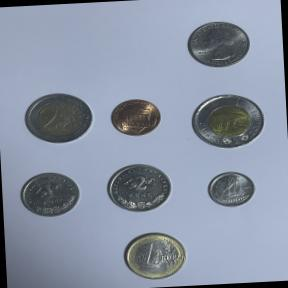1 Euro: (118, 228, 190, 284)
2 Euro: (16, 89, 97, 148)
Canda-10cent-: (204, 169, 260, 210)
Canda-2Dollar-: (186, 88, 272, 153)
Croatia-2Kune-: (102, 158, 176, 216)
US-1cent-: (107, 94, 165, 139)
US-25cent-: (180, 16, 255, 72)
